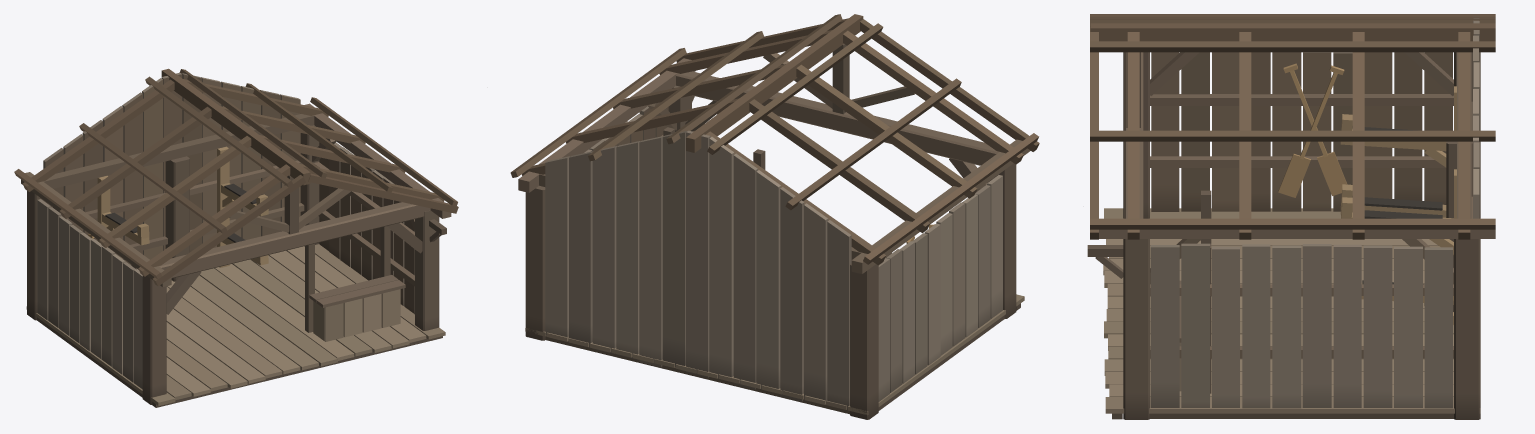
Rendered from Boathouse_wood.glb.
3 renders of one model, left to right at view 1: azimuth 30°, elevation 25°; view 2: azimuth 150°, elevation 25°; view 3: azimuth 270°, elevation 25°, orthographic. The views are drawn at different scales.
Visible parts, largest first — view 1: Boathouse_wood; view 2: Boathouse_wood; view 3: Boathouse_wood.
Boxes of the visible parts, x1,y1,x2,y2 form: Boathouse_wood: (14,68,458,407); Boathouse_wood: (510,14,1039,419); Boathouse_wood: (1087,14,1495,419).
Size of the model in its own units: 17.95 by 11.38 by 14.7.
